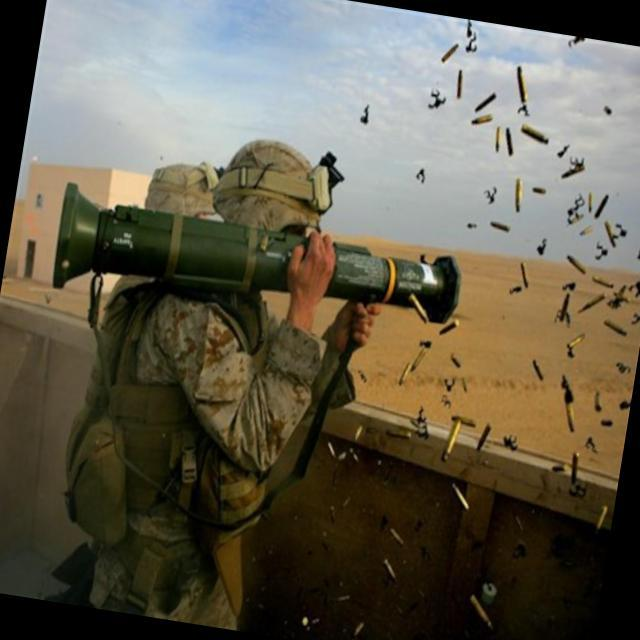rocket: (43, 164, 466, 357)
